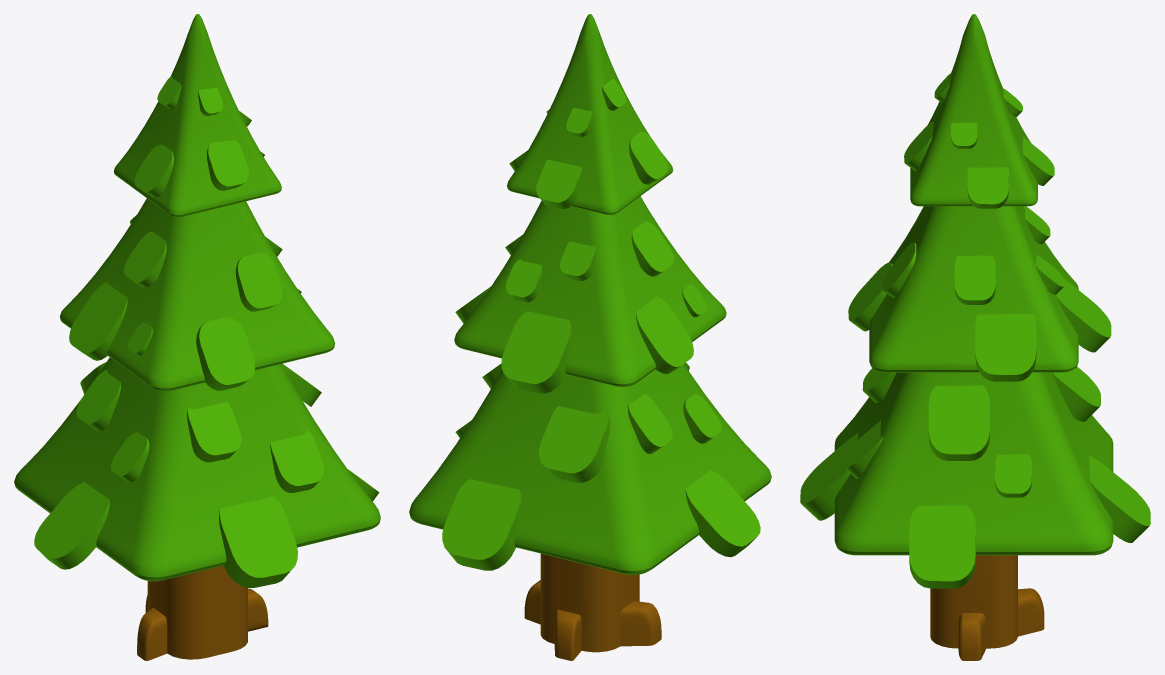
Rendered from fir_tree.fbx.
3 renders of one model, left to right at view 1: azimuth 30°, elevation 25°; view 2: azimuth 150°, elevation 25°; view 3: azimuth 270°, elevation 25°, orthographic.
Visible parts, largest first — view 1: Cube.004; view 2: Cube.004; view 3: Cube.004.
Boxes of the visible parts, x1,y1,x2,y2 form: Cube.004: [14, 14, 380, 660]; Cube.004: [409, 14, 771, 660]; Cube.004: [800, 14, 1150, 660].
Size of the model in its own units: 821 by 1547 by 799.
